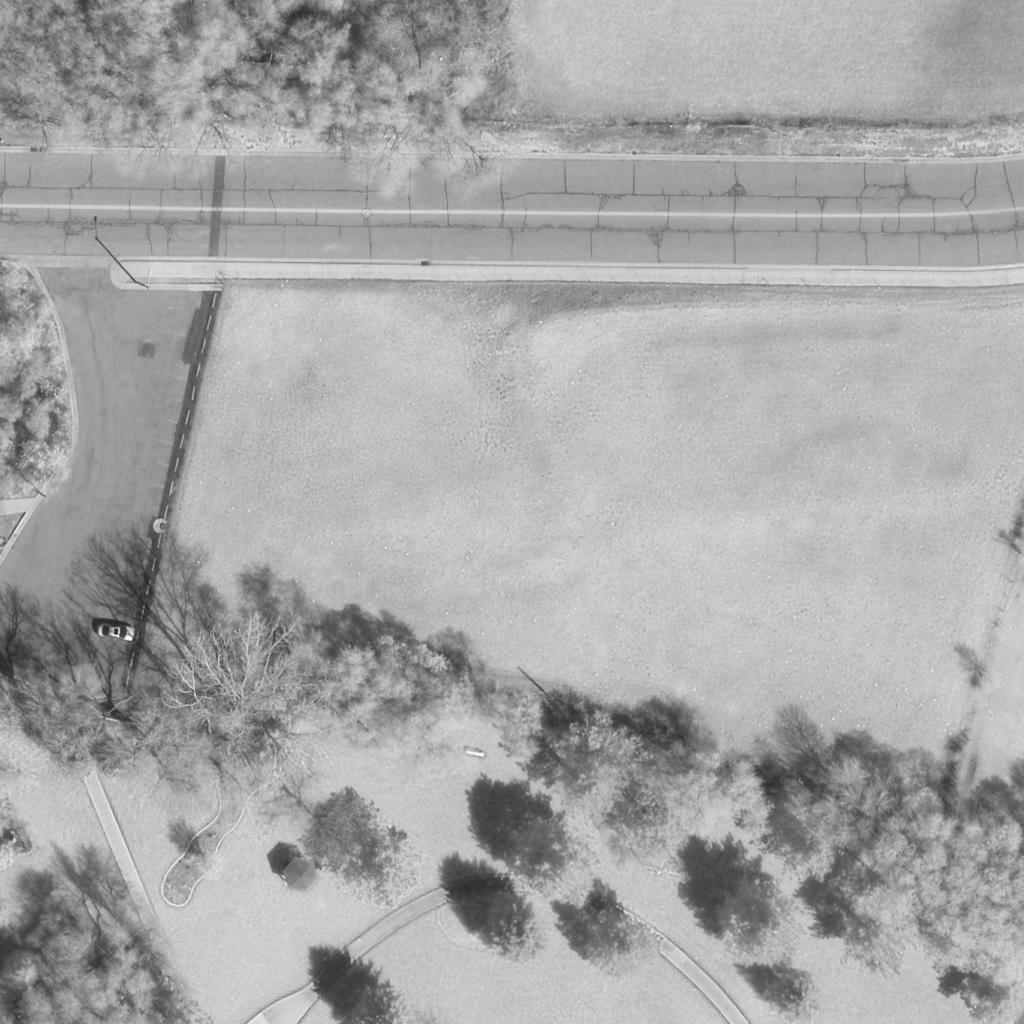vehicle: (97, 623, 135, 641)
